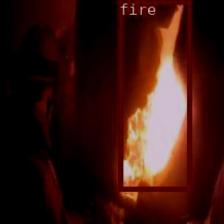fire: (117, 0, 190, 190)
